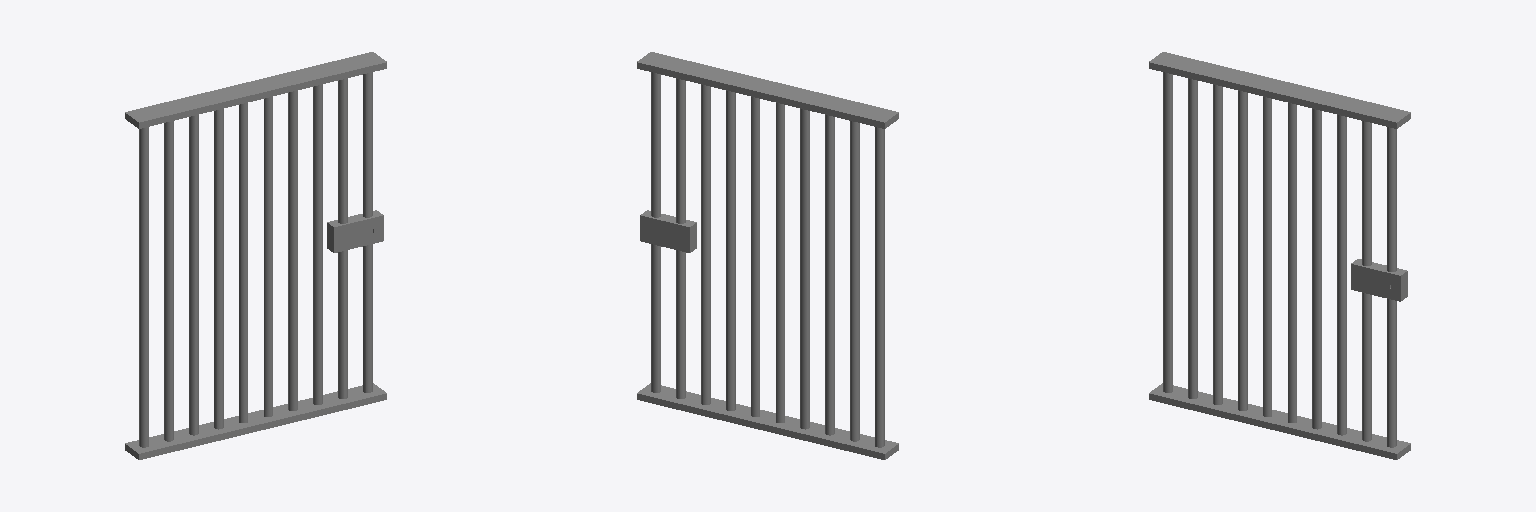
Rendered from WallCellDoorCol2.obj.
3 renders of one model, left to right at view 1: azimuth 30°, elevation 25°; view 2: azimuth 150°, elevation 25°; view 3: azimuth 330°, elevation 25°, orthographic.
Parts seen in each view (by area): view 1: Cube; view 2: Cube; view 3: Cube.
Boxes of the visible parts, x1=… form: Cube: x1=125, y1=52, x2=386, y2=459; Cube: x1=637, y1=52, x2=898, y2=459; Cube: x1=1149, y1=52, x2=1410, y2=459.
Bounding box in the file's own units: 5.4 × 7.02 × 0.54.